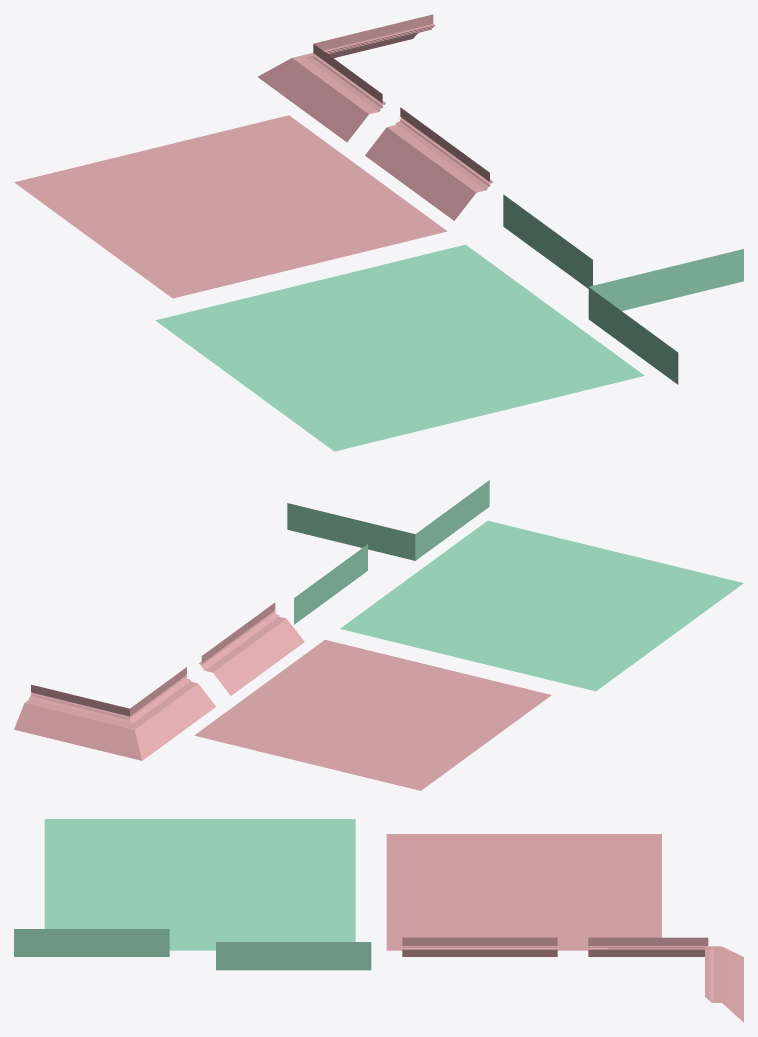
The model's file is TempA_CeilingParts_01_Low 1.fbx.
3 views of the same model, one above another, from view 1: azimuth 30°, elevation 25°; view 2: azimuth 150°, elevation 25°; view 3: azimuth 270°, elevation 25° (orthographic). The views are drawn at different scales.
Visible parts, largest first — view 1: TempA_CeilingPlane_01_Low, TempA_CeilingPlane_02_Low, TempA_CeilingCorner_02_Low, TempA_CeilingCorner_01_Low, TempA_CeilingWall_02_Low, TempA_CeilingWall_01_Low; view 2: TempA_CeilingPlane_01_Low, TempA_CeilingPlane_02_Low, TempA_CeilingCorner_02_Low, TempA_CeilingCorner_01_Low, TempA_CeilingWall_02_Low, TempA_CeilingWall_01_Low; view 3: TempA_CeilingPlane_01_Low, TempA_CeilingPlane_02_Low, TempA_CeilingCorner_02_Low, TempA_CeilingWall_01_Low, TempA_CeilingCorner_01_Low, TempA_CeilingWall_02_Low.
Part boxes in pixels (x1=…): TempA_CeilingPlane_01_Low: x1=155, y1=244, x2=644, y2=451; TempA_CeilingPlane_02_Low: x1=14, y1=115, x2=447, y2=298; TempA_CeilingCorner_02_Low: x1=258, y1=14, x2=434, y2=142; TempA_CeilingCorner_01_Low: x1=588, y1=249, x2=743, y2=384; TempA_CeilingWall_02_Low: x1=365, y1=107, x2=492, y2=220; TempA_CeilingWall_01_Low: x1=503, y1=194, x2=592, y2=288; TempA_CeilingPlane_01_Low: x1=340, y1=520, x2=743, y2=691; TempA_CeilingPlane_02_Low: x1=194, y1=640, x2=551, y2=790; TempA_CeilingCorner_02_Low: x1=14, y1=667, x2=215, y2=760; TempA_CeilingCorner_01_Low: x1=287, y1=480, x2=489, y2=560; TempA_CeilingWall_02_Low: x1=199, y1=602, x2=304, y2=695; TempA_CeilingWall_01_Low: x1=294, y1=544, x2=367, y2=624; TempA_CeilingPlane_01_Low: x1=44, y1=819, x2=355, y2=950; TempA_CeilingPlane_02_Low: x1=386, y1=834, x2=661, y2=950; TempA_CeilingCorner_02_Low: x1=588, y1=937, x2=743, y2=1022; TempA_CeilingWall_01_Low: x1=216, y1=942, x2=371, y2=970; TempA_CeilingCorner_01_Low: x1=14, y1=929, x2=169, y2=956; TempA_CeilingWall_02_Low: x1=402, y1=937, x2=557, y2=956.
Bounding box in the file's own units: 31.05 × 2.44 × 47.
